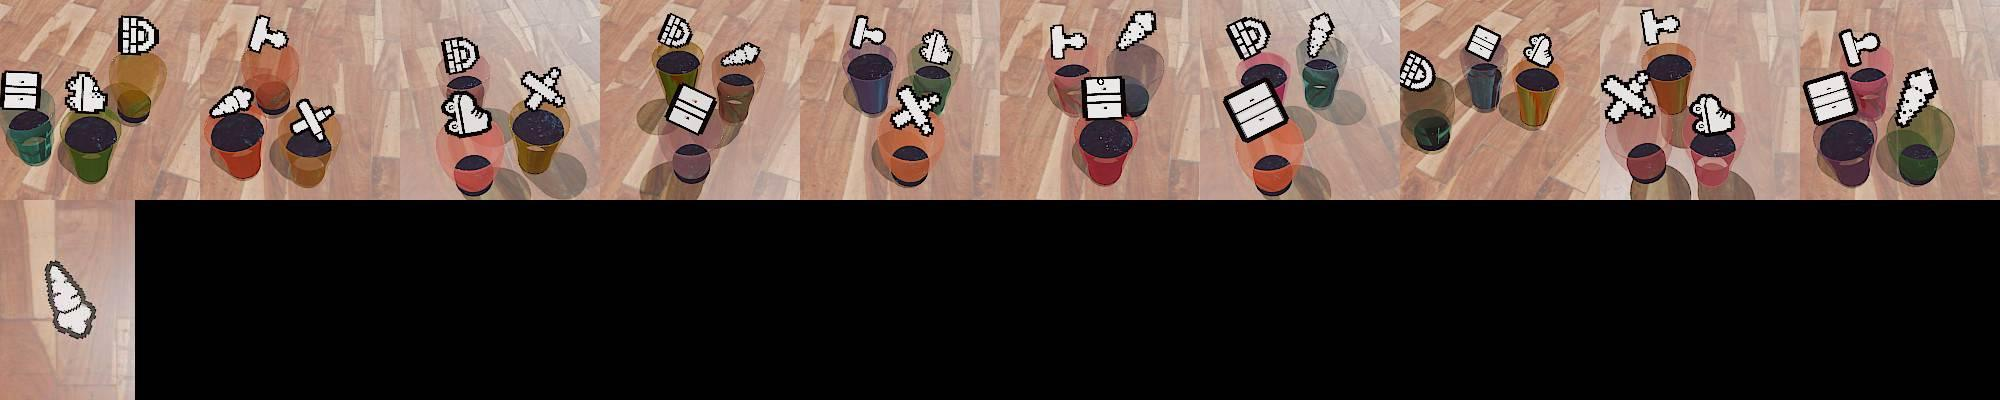icon: (1223, 77, 1291, 144), (44, 259, 97, 340), (1803, 70, 1859, 124), (663, 82, 717, 136), (1600, 72, 1656, 123), (1894, 67, 1938, 127), (441, 88, 493, 137), (892, 84, 940, 137), (1081, 73, 1128, 120), (520, 65, 567, 111), (1688, 92, 1736, 136), (291, 96, 336, 142), (1226, 15, 1270, 61), (64, 70, 108, 115), (1, 67, 42, 115), (1116, 9, 1158, 53), (247, 14, 289, 55), (118, 15, 159, 56), (1464, 23, 1503, 64), (1839, 28, 1880, 67), (440, 36, 481, 75), (1304, 12, 1336, 60), (849, 14, 888, 53), (1640, 8, 1680, 46), (1048, 22, 1088, 60), (209, 85, 256, 117), (1400, 49, 1434, 91), (918, 29, 954, 66), (658, 13, 694, 49), (719, 41, 762, 69), (1522, 32, 1554, 68)
